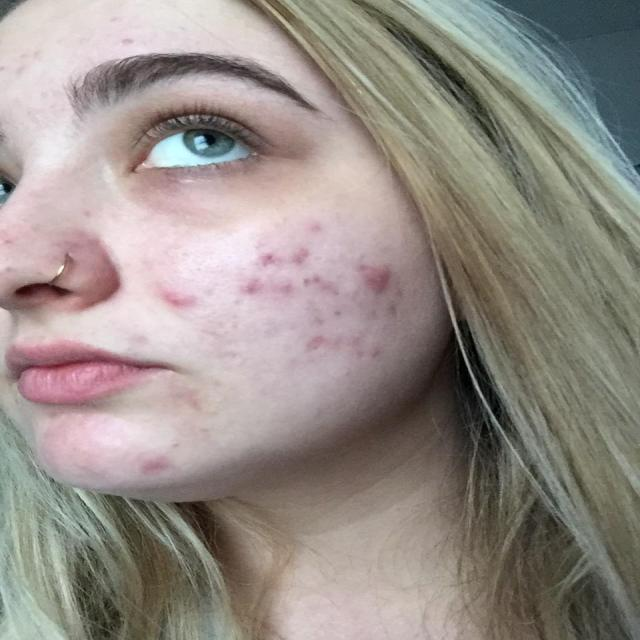acne: (128, 231, 434, 383), (128, 441, 194, 491)
